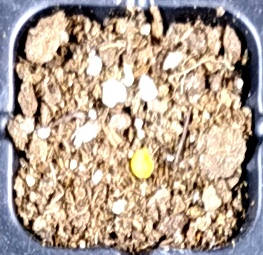pepper seed: (52, 57, 208, 237)
